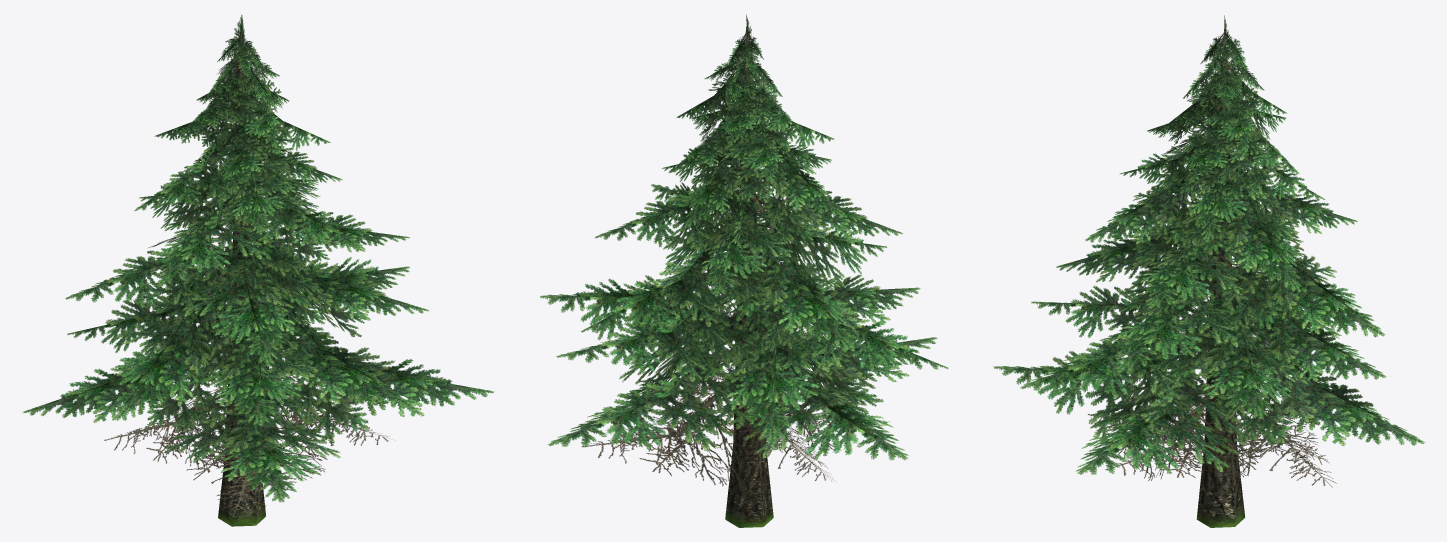
Rendered from tree4_6.glb.
The picture shows the model from 3 angles, left to right: view 1: azimuth 30°, elevation 25°; view 2: azimuth 150°, elevation 25°; view 3: azimuth 270°, elevation 25°; orthographic projection.
Visible parts, largest first — view 1: tree4_6-col; view 2: tree4_6-col; view 3: tree4_6-col.
Boxes of the visible parts, x1,y1,x2,y2 form: tree4_6-col: (23, 15, 494, 526); tree4_6-col: (540, 14, 948, 527); tree4_6-col: (993, 15, 1425, 527).
Bounding box in the file's own units: 3.33 × 4.09 × 3.28.
Materials: 3 (3 with a texture image).
